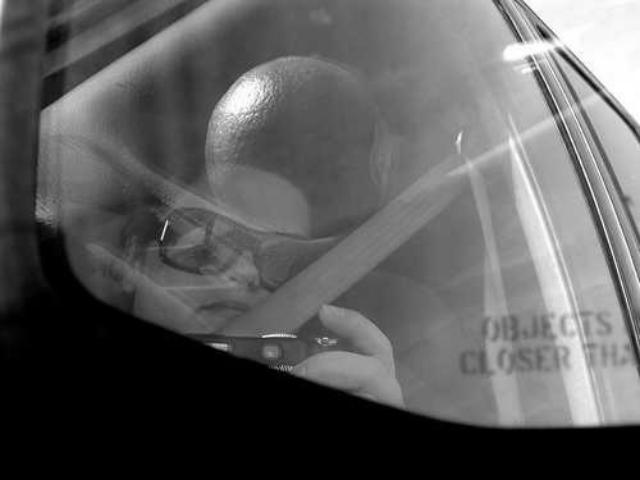Seatbelt: (206, 138, 480, 338)
